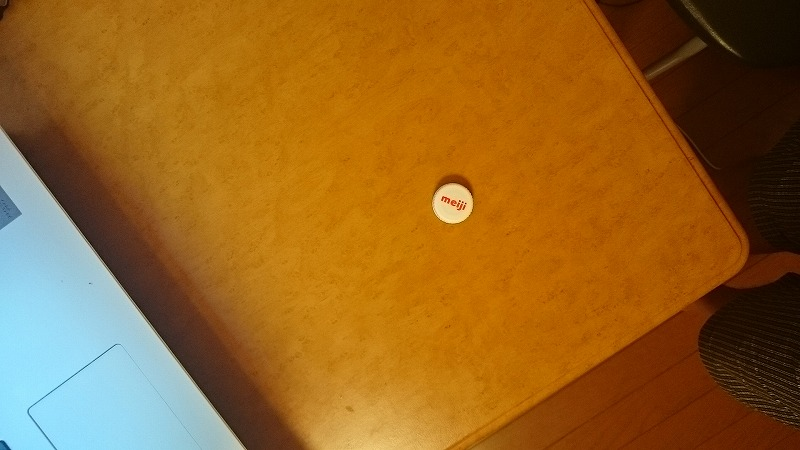B: (427, 181, 487, 226)
